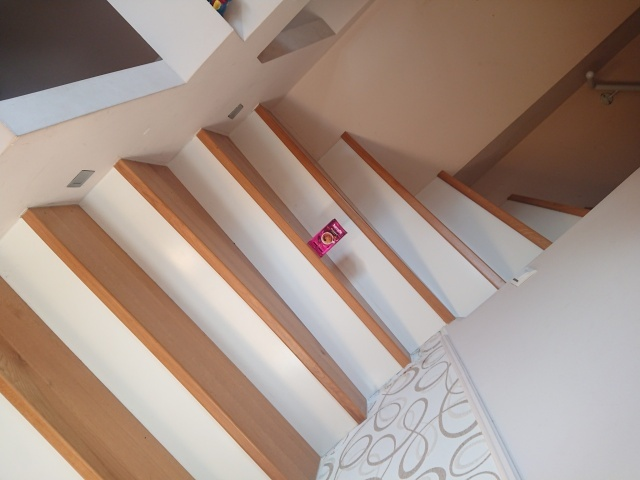Barcaffe Classic Original 225g: (306, 216, 349, 260)
